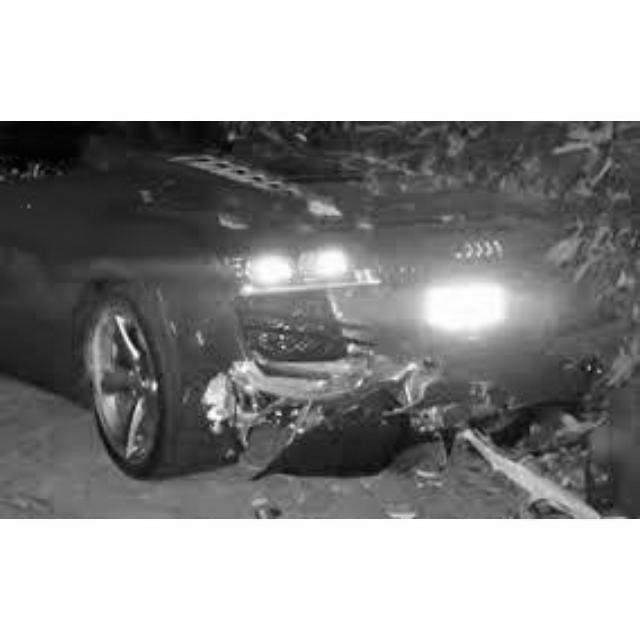front-bumper-dent: (197, 360, 530, 456)
